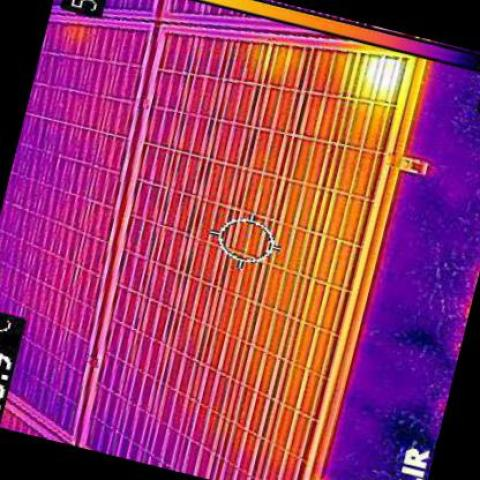fault: (366, 54, 408, 91)
